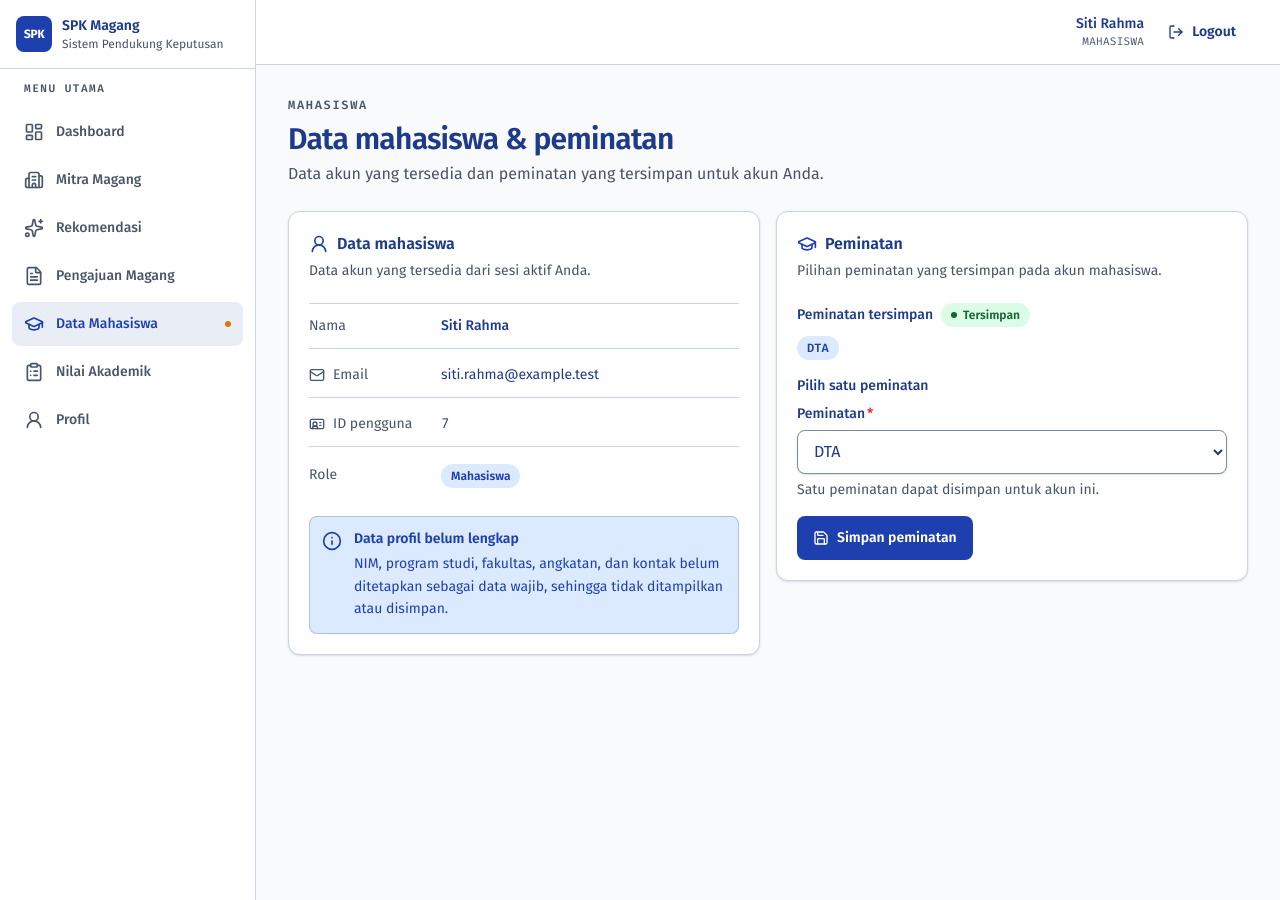
Test case: StudentDataPage › menampilkan error validasi server pada field peminatan
Expected: the dropdown labelled "Peminatan*" is shown, [797,430,1227,474]
Click the button "Simpan peminatan" at point(885, 538), box [797,516,973,560]
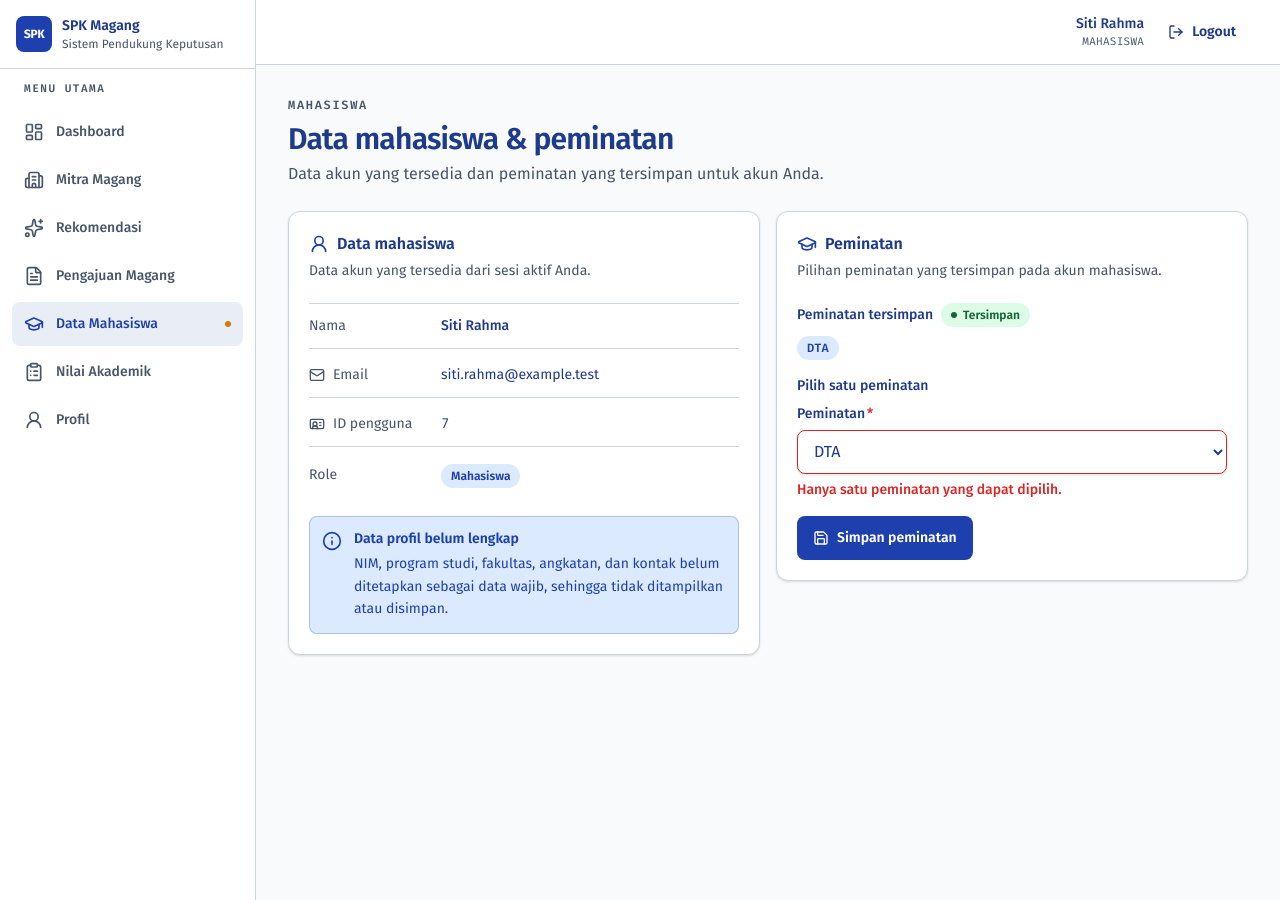
Now the text "Hanya satu peminatan yang dapat dipilih." is shown, box [797,481,1062,498]
